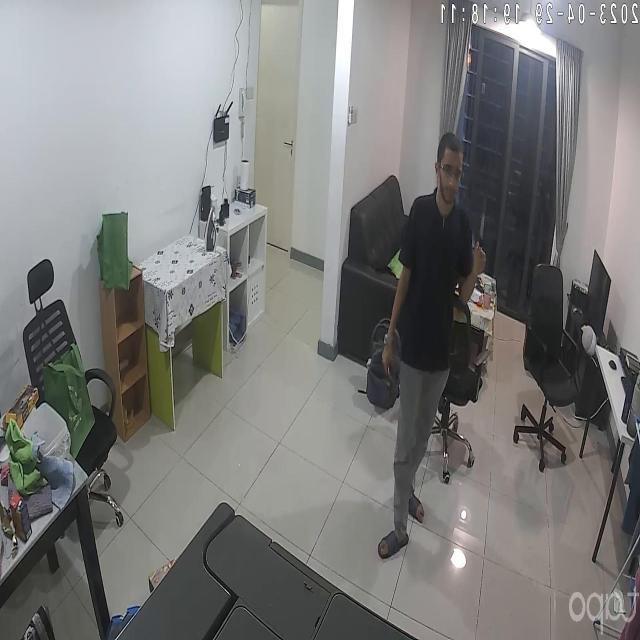Knife: (475, 198, 497, 256)
